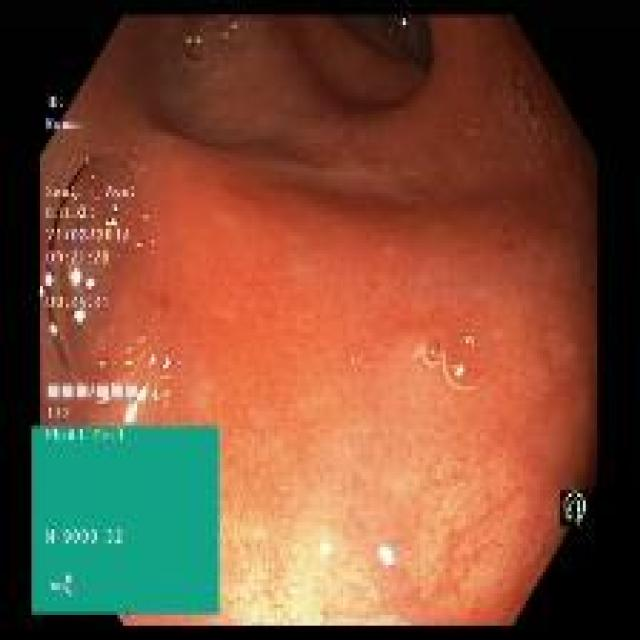ulcerative-colitis: (40, 17, 596, 623)
